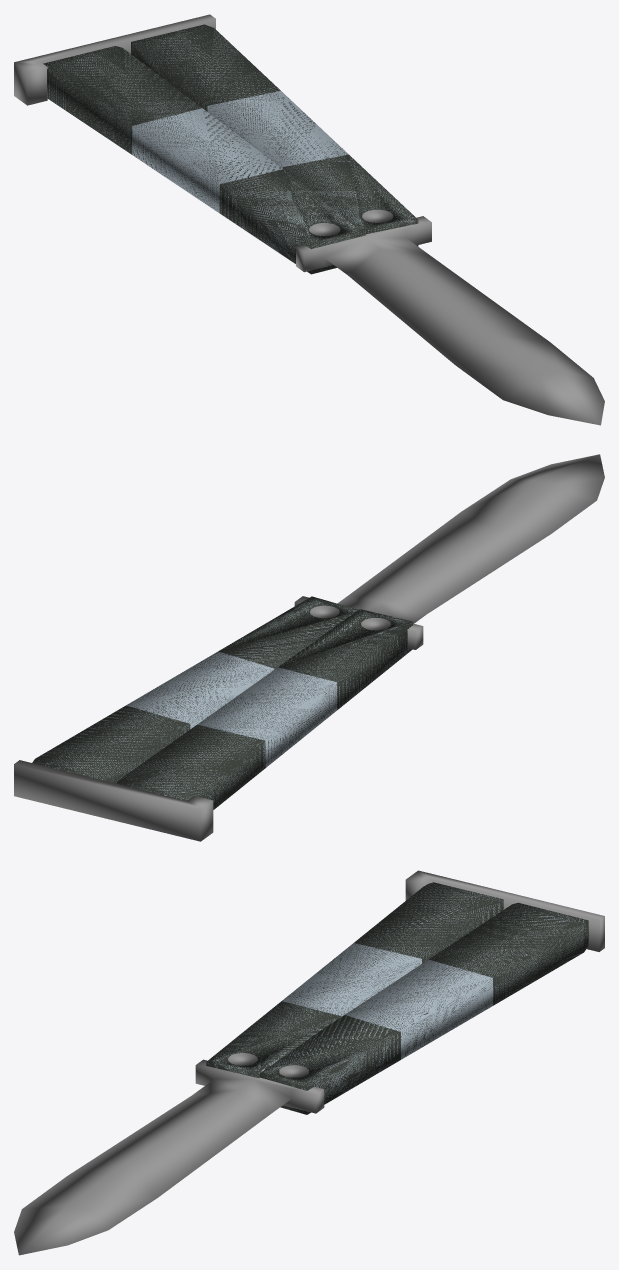
File: TEAM+FORTRESS+2+KNIFE.fbx
3 renders of one model, top to bottom at view 1: azimuth 30°, elevation 25°; view 2: azimuth 150°, elevation 25°; view 3: azimuth 330°, elevation 25°, orthographic. The views are drawn at different scales.
Visible parts, largest first — view 1: Group4, Group3, Group2, Group5; view 2: Group4, Group3, Group2, Group5; view 3: Group2, Group3, Group4, Group5.
Part boxes in pixels (x1,y1,x2,y2): Group4: (43, 46, 365, 274); Group3: (296, 216, 604, 425); Group2: (131, 24, 418, 246); Group5: (14, 14, 215, 105); Group4: (116, 609, 412, 809); Group3: (294, 454, 604, 649); Group2: (32, 596, 358, 783); Group5: (14, 760, 213, 841); Group2: (260, 902, 588, 1114); Group3: (14, 1059, 324, 1255); Group4: (206, 882, 503, 1078); Group5: (405, 870, 604, 951).
Size of the model in its own units: 575 by 94.25 by 2556.
